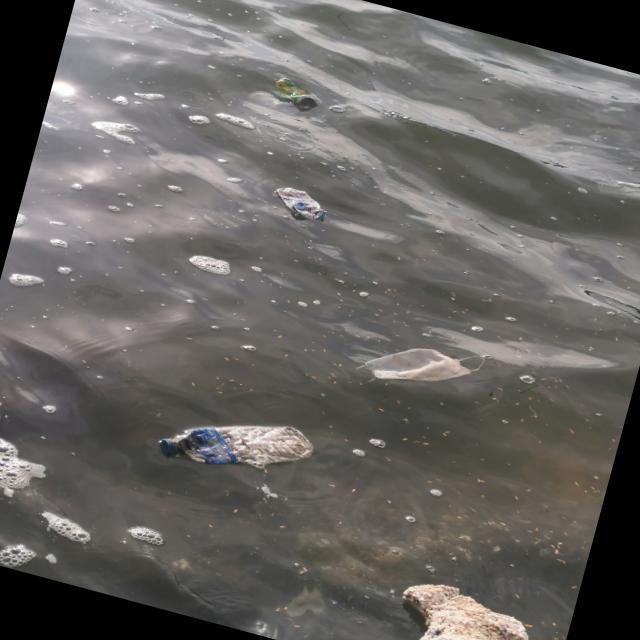can: (271, 76, 324, 114)
foam: (383, 573, 543, 640)
plastic bottle: (160, 396, 319, 494)
